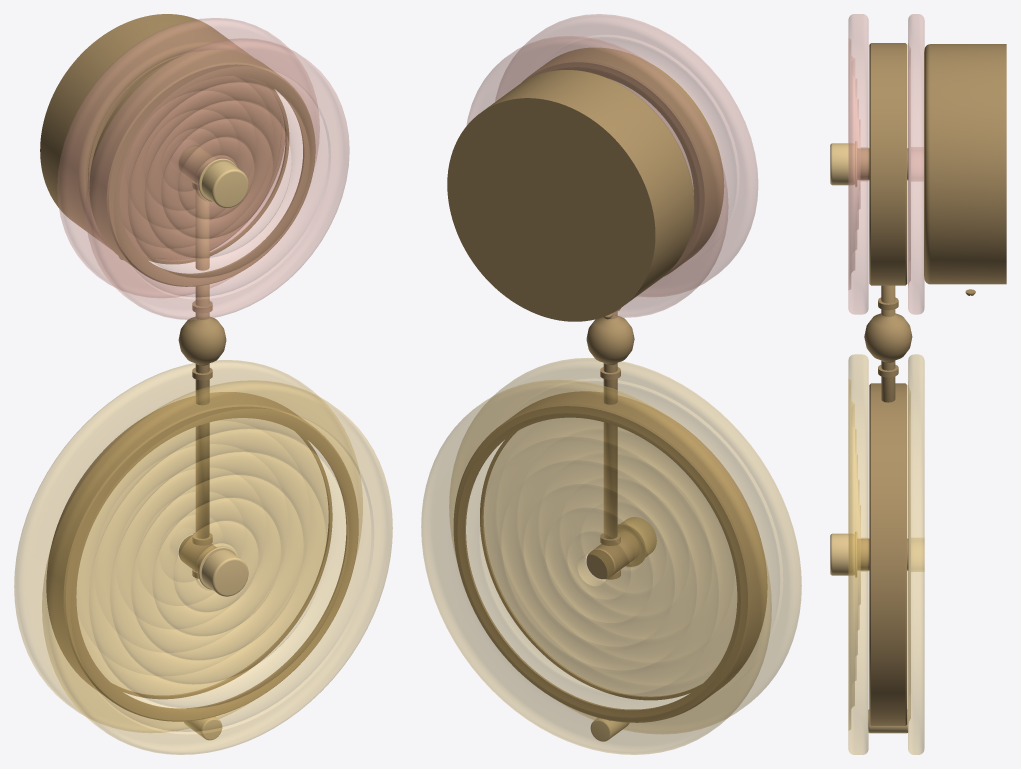
3 views of the same model, side by side, from view 1: azimuth 30°, elevation 25°; view 2: azimuth 150°, elevation 25°; view 3: azimuth 270°, elevation 25° (orthographic).
Parts seen in each view (by area): view 1: glass_yellow31_glass, brass_satin, glass_pink31_glass, led, brass_polish; view 2: glass_yellow31_glass, brass_satin, glass_pink31_glass, led, brass_polish; view 3: brass_satin, glass_yellow31_glass, glass_pink31_glass, brass_polish.
Boxes of the visible parts, x1=… form: glass_yellow31_glass: x1=14, y1=360, x2=392, y2=754; brass_satin: x1=40, y1=14, x2=358, y2=721; glass_pink31_glass: x1=57, y1=18, x2=349, y2=319; led: x1=123, y1=89, x2=346, y2=708; brass_polish: x1=183, y1=158, x2=248, y2=740; glass_yellow31_glass: x1=421, y1=358, x2=801, y2=754; brass_satin: x1=447, y1=47, x2=767, y2=722; glass_pink31_glass: x1=466, y1=14, x2=757, y2=317; led: x1=466, y1=440, x2=689, y2=709; brass_polish: x1=590, y1=517, x2=656, y2=741; brass_satin: x1=857, y1=43, x2=1006, y2=725; glass_yellow31_glass: x1=848, y1=354, x2=924, y2=754; glass_pink31_glass: x1=848, y1=14, x2=924, y2=314; brass_polish: x1=830, y1=141, x2=908, y2=733.
Size of the model in its own units: 0.2 by 0.39 by 0.088.
